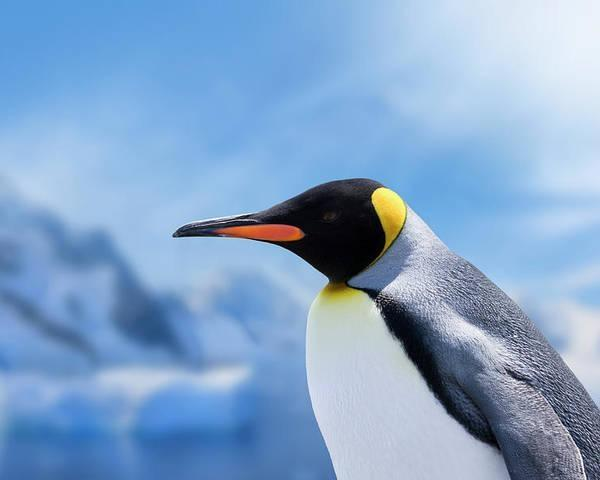Penguin: (172, 178, 599, 479)
